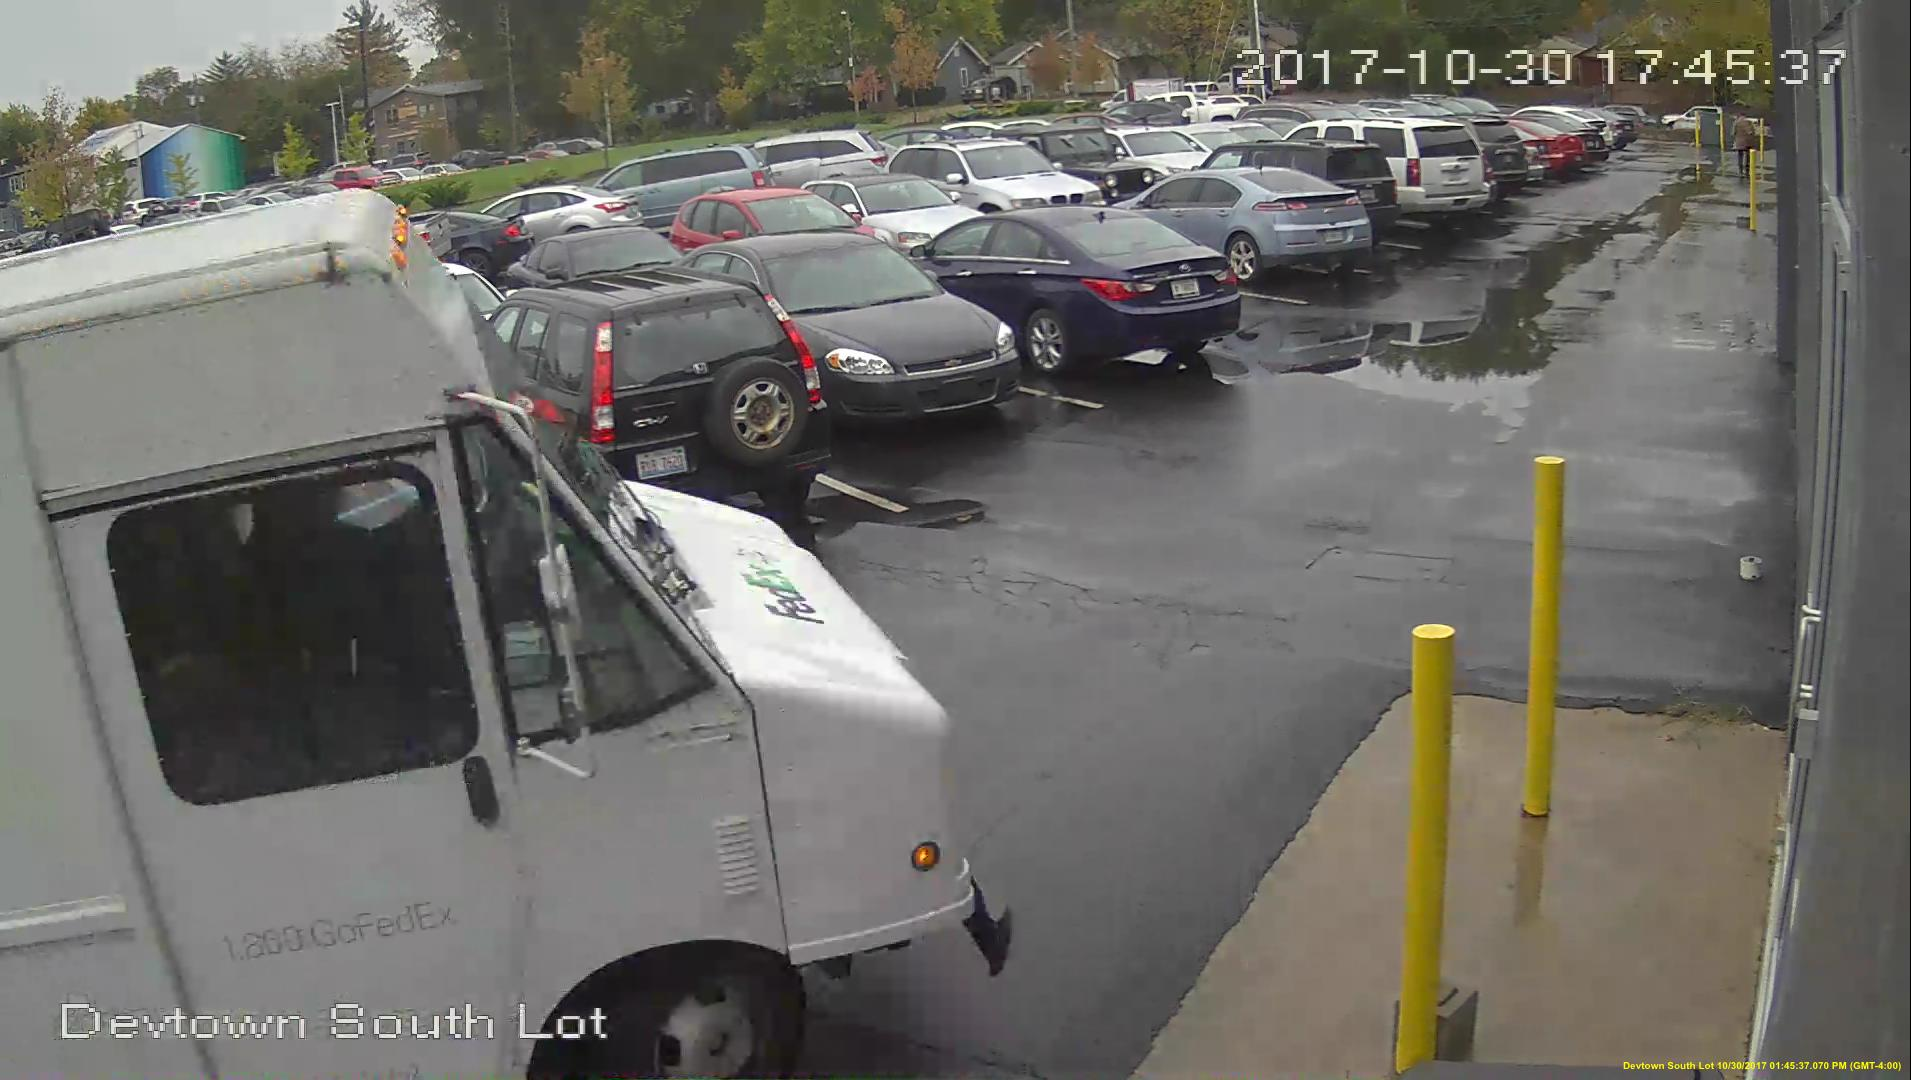fedex_truck: (4, 224, 942, 1077)
